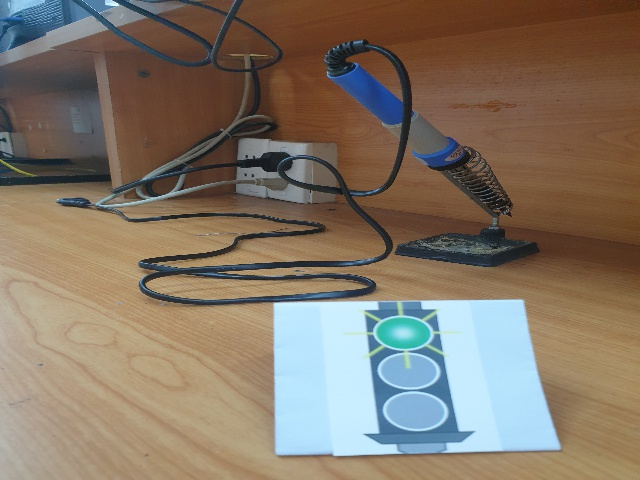Green Light: (356, 302, 482, 460)
